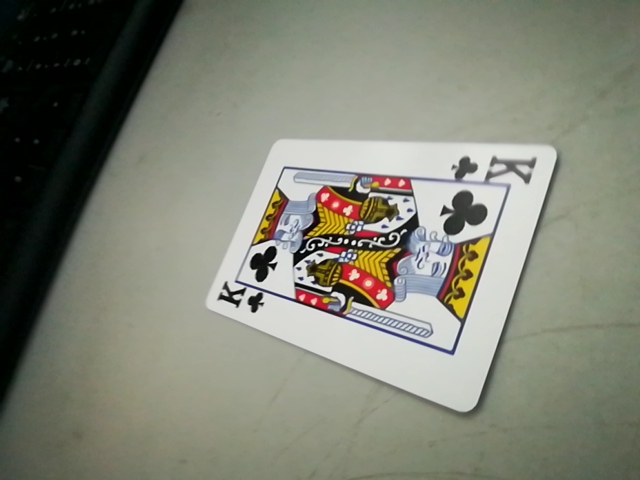mh k: (449, 150, 544, 185), (213, 285, 271, 319)
